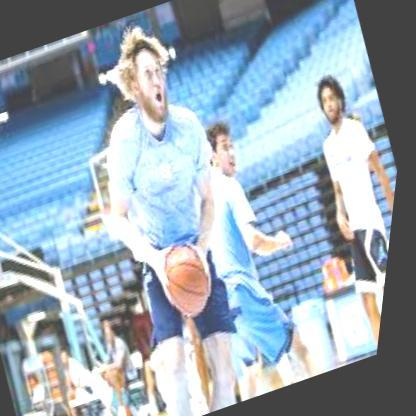basketball: (154, 234, 230, 324)
